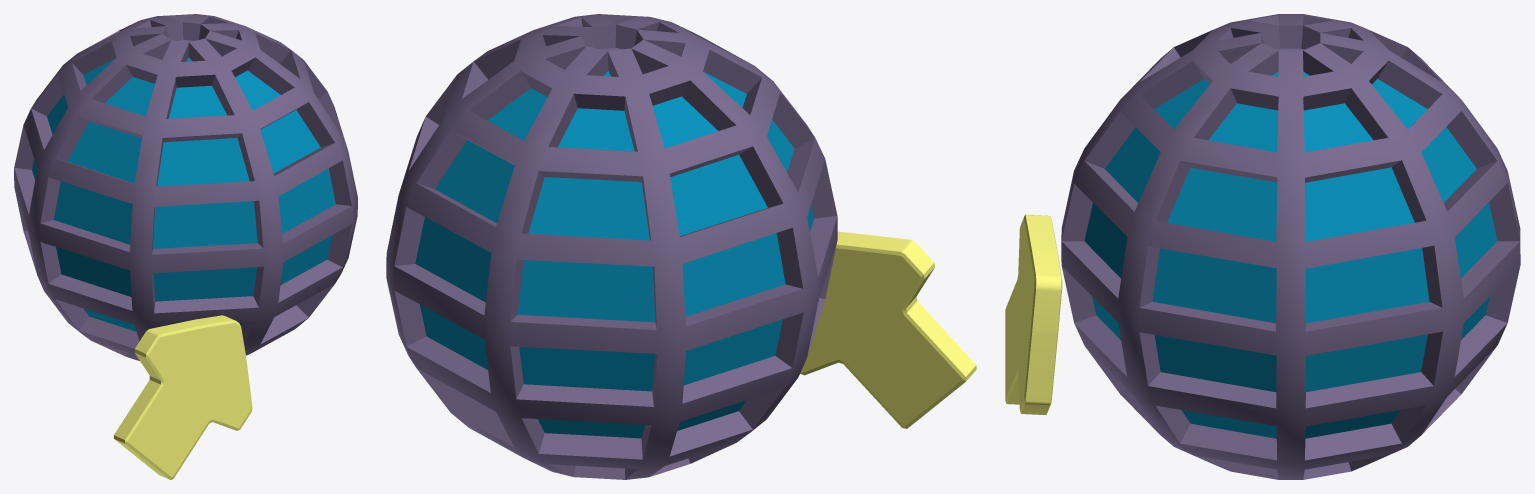
The model's file is web_full.gltf.
3 renders of one model, left to right at view 1: azimuth 30°, elevation 25°; view 2: azimuth 150°, elevation 25°; view 3: azimuth 270°, elevation 25°, orthographic. The views are drawn at different scales.
Visible parts, largest first — view 1: pSphere1, pCube1; view 2: pSphere1, pCube1; view 3: pSphere1, pCube1.
Part boxes in pixels (bbox=[...]): pSphere1: bbox=[14, 14, 357, 360]; pCube1: bbox=[113, 315, 252, 479]; pSphere1: bbox=[386, 14, 837, 479]; pCube1: bbox=[800, 231, 976, 428]; pSphere1: bbox=[1061, 14, 1520, 479]; pCube1: bbox=[1005, 214, 1062, 414].
Size of the model in its own units: 5.48 by 5.52 by 5.78.
